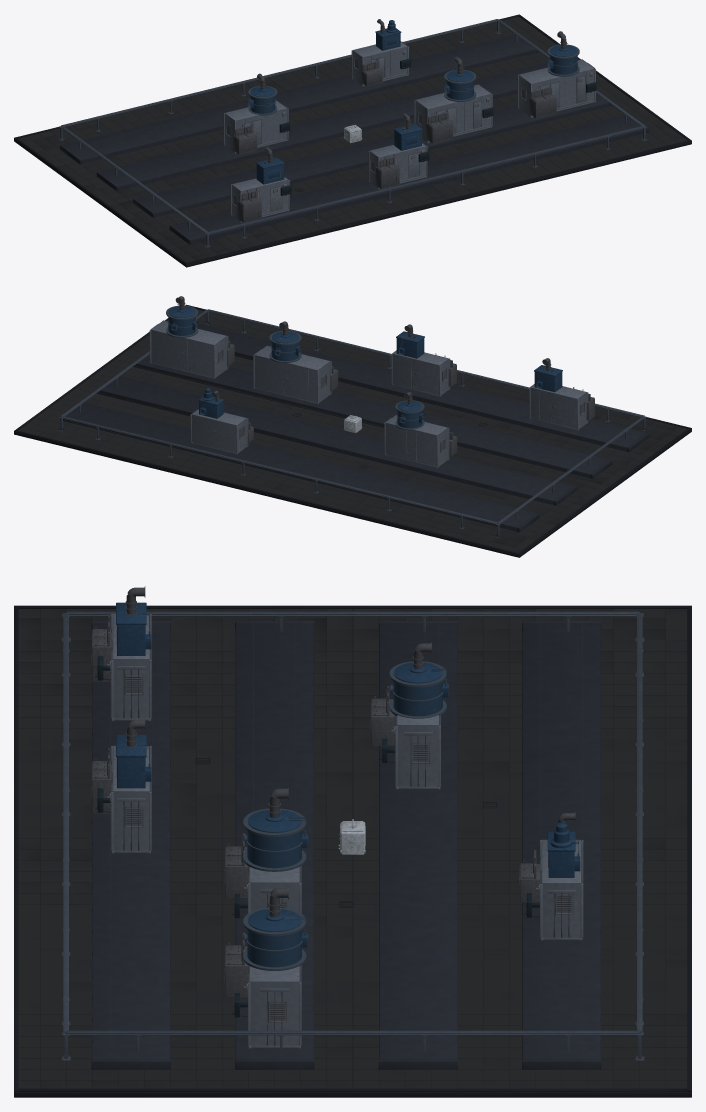
Rendered from oxide-fab.glb.
3 views of the same model, one above another, from view 1: azimuth 30°, elevation 25°; view 2: azimuth 150°, elevation 25°; view 3: azimuth 270°, elevation 25° (orthographic). The views are drawn at different scales.
Parts seen in each view (by area): view 1: factory.floor, factory.band.4, factory.band.1, factory.band.3, factory.band.2, tool.LIT-02.body, tool.LIT-01.body, tool.ETC-01.body, factory.amhs.2, tool.MET-01.body, tool.CLN-01.body, tool.CLN-02.body (+15 smaller); view 2: factory.floor, factory.band.4, factory.band.3, factory.band.2, factory.band.1, tool.LIT-02.body, tool.LIT-01.body, tool.ETC-01.body, tool.CLN-01.body, tool.CLN-02.body, tool.MET-01.body, factory.amhs.0 (+9 smaller); view 3: factory.floor, factory.band.4, factory.band.3, factory.band.1, factory.band.2, tool.LIT-02.body, factory.amhs.1, tool.LIT-01.chamber, tool.LIT-02.chamber, factory.amhs.3, tool.MET-01.body, tool.ETC-01.body (+16 smaller).
Boxes of the visible parts, bbox=[...] form: factory.floor: bbox=[14, 14, 691, 267]; factory.band.4: bbox=[60, 33, 539, 164]; factory.band.1: bbox=[169, 113, 649, 244]; factory.band.3: bbox=[96, 62, 547, 190]; factory.band.2: bbox=[133, 90, 612, 217]; tool.LIT-02.body: bbox=[517, 59, 595, 117]; tool.LIT-01.body: bbox=[414, 84, 492, 142]; tool.ETC-01.body: bbox=[223, 100, 288, 153]; factory.amhs.2: bbox=[207, 126, 644, 238]; tool.MET-01.body: bbox=[351, 41, 409, 86]; tool.CLN-01.body: bbox=[230, 176, 290, 222]; tool.CLN-02.body: bbox=[368, 142, 428, 188]; factory.floor: bbox=[14, 304, 691, 557]; factory.band.4: bbox=[60, 401, 539, 532]; factory.band.3: bbox=[96, 374, 576, 505]; factory.band.2: bbox=[133, 351, 612, 478]; factory.band.1: bbox=[198, 323, 649, 451]; tool.LIT-02.body: bbox=[149, 320, 228, 378]; tool.LIT-01.body: bbox=[253, 345, 331, 404]; tool.ETC-01.body: bbox=[384, 415, 449, 468]; tool.CLN-01.body: bbox=[528, 384, 588, 430]; tool.CLN-02.body: bbox=[390, 350, 450, 396]; tool.MET-01.body: bbox=[190, 409, 248, 454]; factory.amhs.0: bbox=[61, 416, 498, 528]; factory.floor: bbox=[14, 605, 691, 1097]; factory.band.4: bbox=[521, 620, 601, 1069]; factory.band.3: bbox=[378, 620, 457, 1069]; factory.band.1: bbox=[91, 620, 170, 1069]; factory.band.2: bbox=[235, 620, 314, 1069]; tool.LIT-02.body: bbox=[244, 965, 301, 1048]; factory.amhs.1: bbox=[66, 1030, 639, 1051]; tool.LIT-01.chamber: bbox=[243, 808, 307, 871]; tool.LIT-02.chamber: bbox=[243, 907, 307, 970]; factory.amhs.3: bbox=[66, 611, 639, 632]; tool.MET-01.body: bbox=[536, 839, 583, 940]; tool.ETC-01.body: bbox=[391, 715, 441, 789].
Bounding box in the file's own units: 44 × 6.4 × 26.
Materials: 10 (10 with a texture image).
